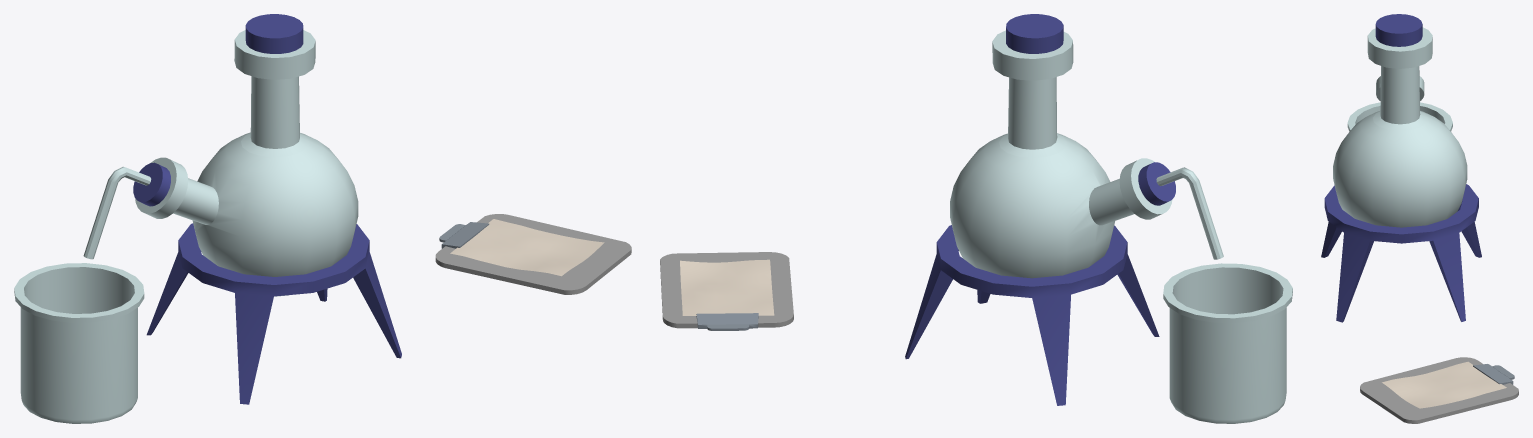
Rendered from materiel_ilot_05.fbx.
3 renders of one model, left to right at view 1: azimuth 30°, elevation 25°; view 2: azimuth 150°, elevation 25°; view 3: azimuth 270°, elevation 25°, orthographic. The views are drawn at different scales.
Visible parts, largest first — view 1: materiel_ilot_04; view 2: materiel_ilot_04; view 3: materiel_ilot_04.
Part boxes in pixels (left/top/right/bottom): materiel_ilot_04: left=14, top=14, right=631, bottom=423; materiel_ilot_04: left=660, top=14, right=1292, bottom=423; materiel_ilot_04: left=1321, top=14, right=1518, bottom=423.
Bounding box in the file's own units: 230 × 117 × 79.32.
